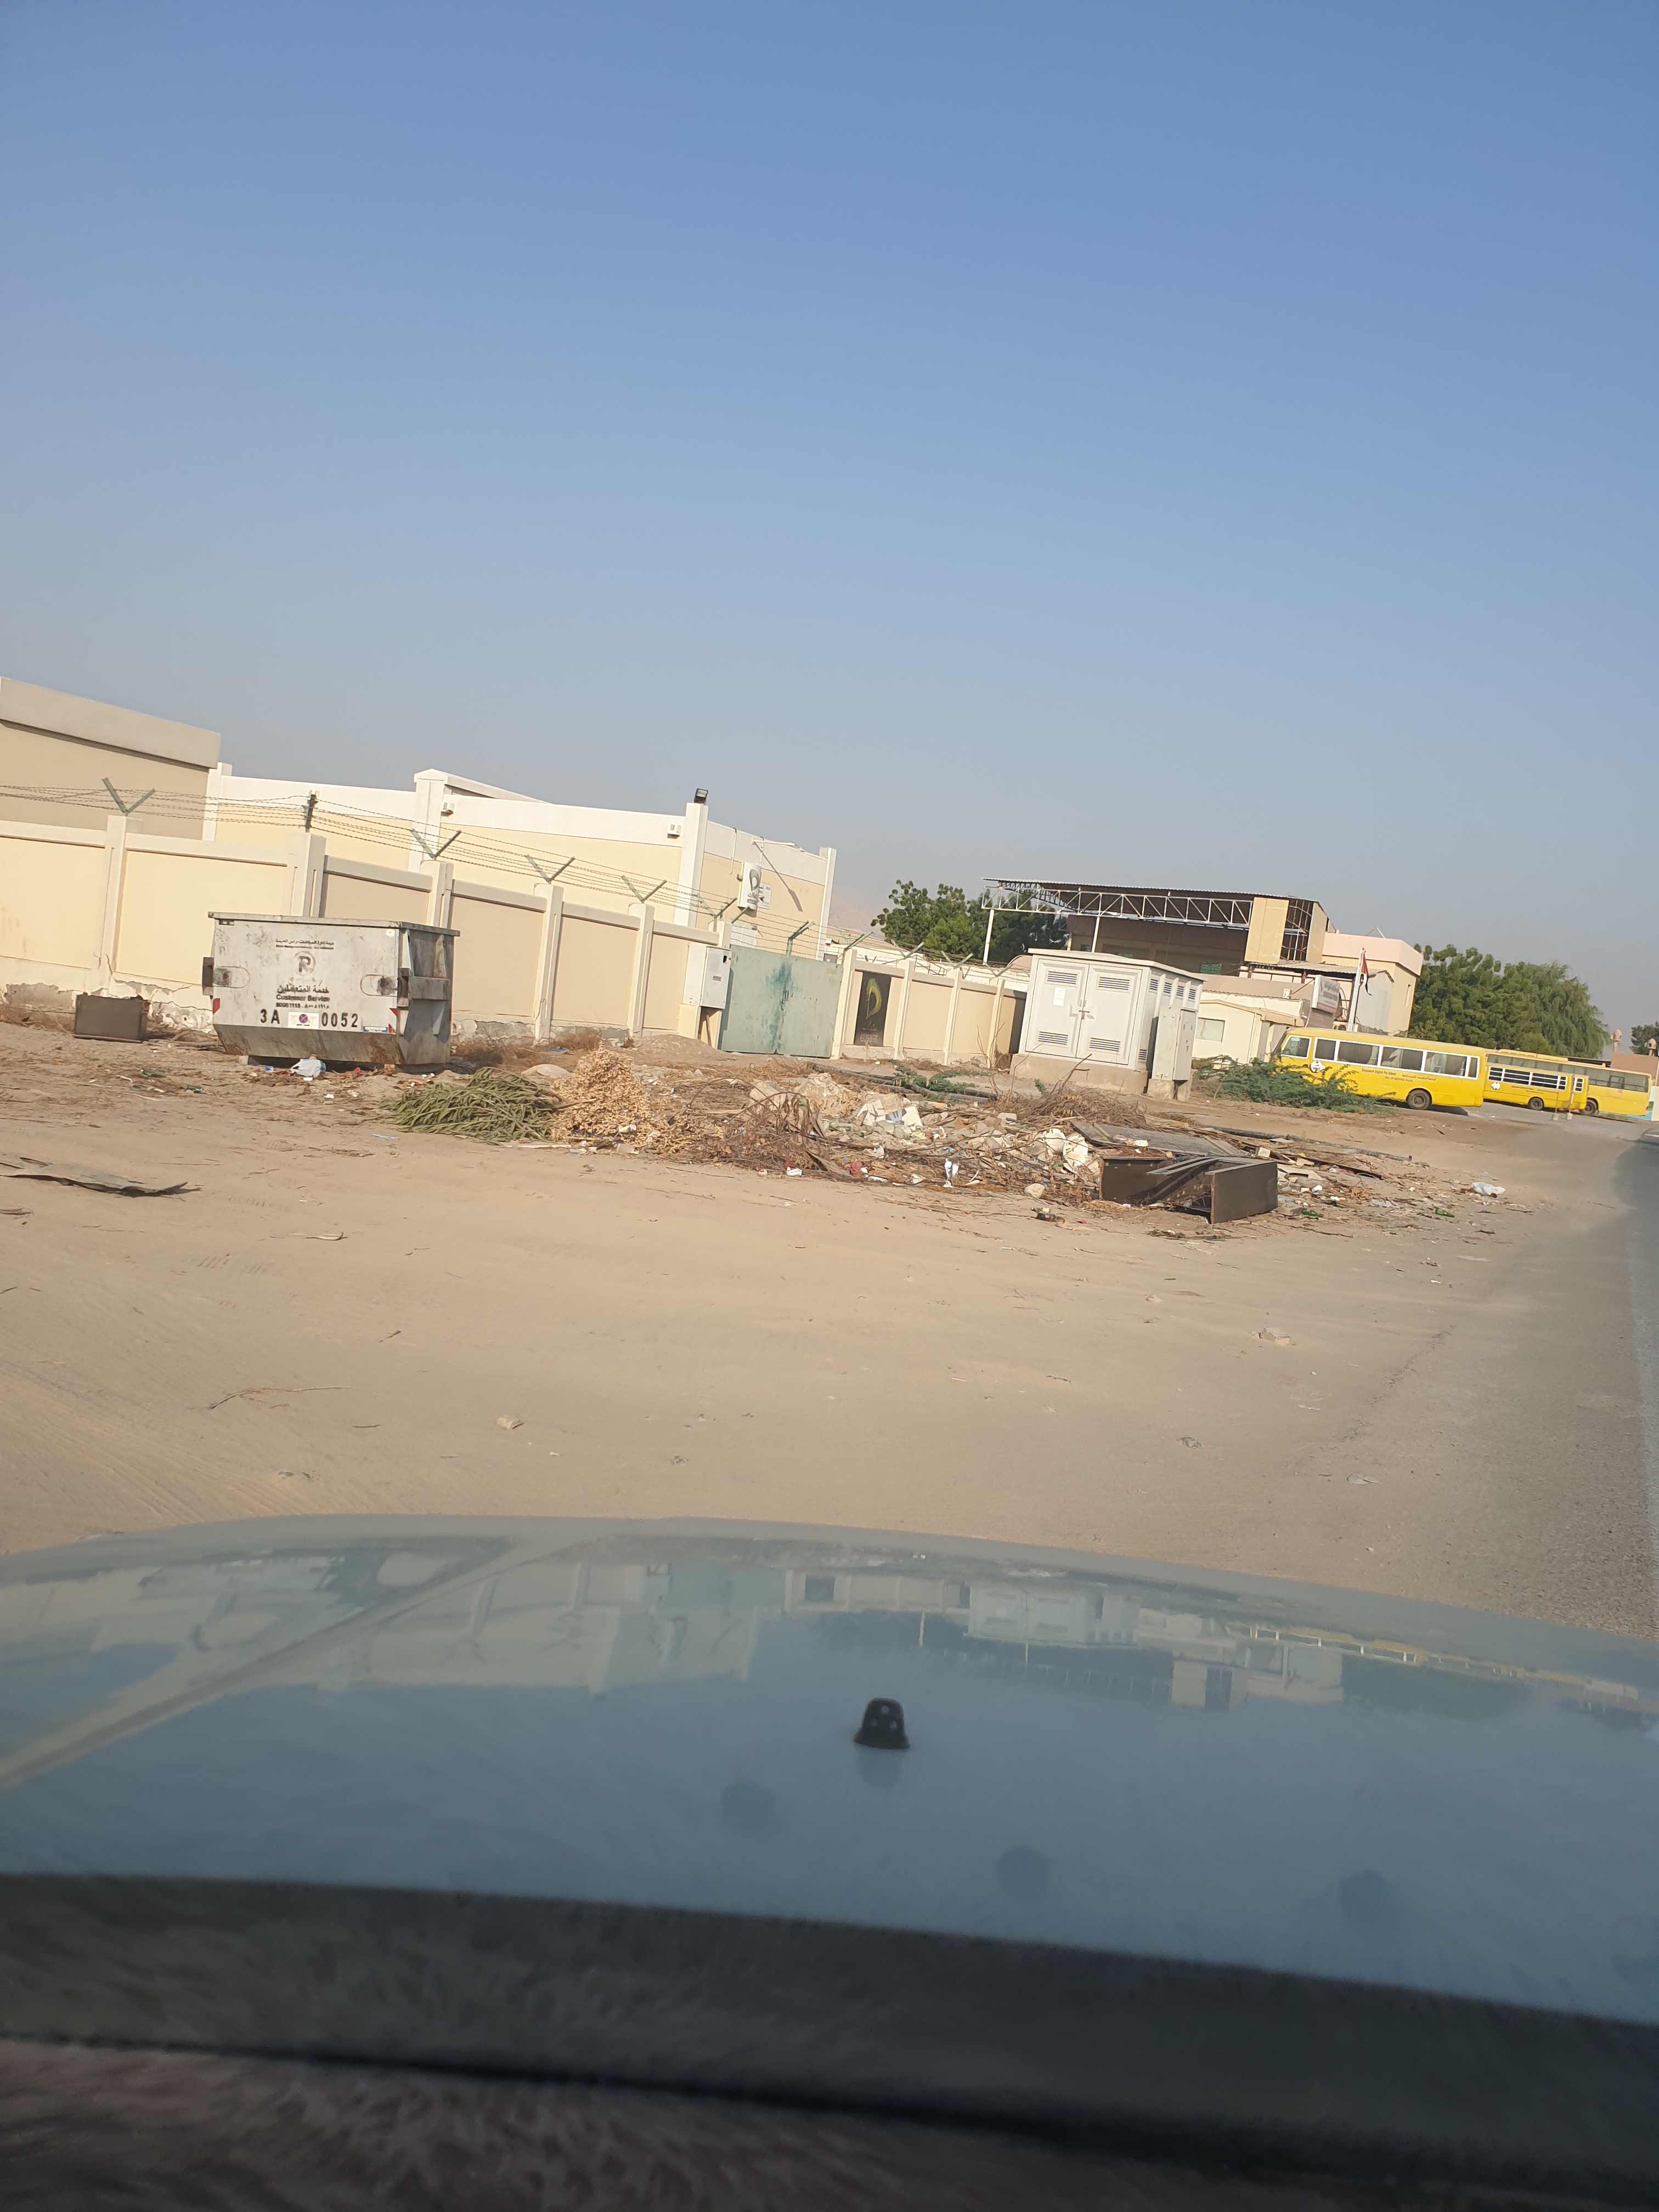fallen_trees: (540, 1043, 789, 1184), (864, 1104, 1070, 1238), (716, 1082, 941, 1200), (380, 1073, 633, 1165)
uncollected_waste: (1101, 1141, 1307, 1258)
